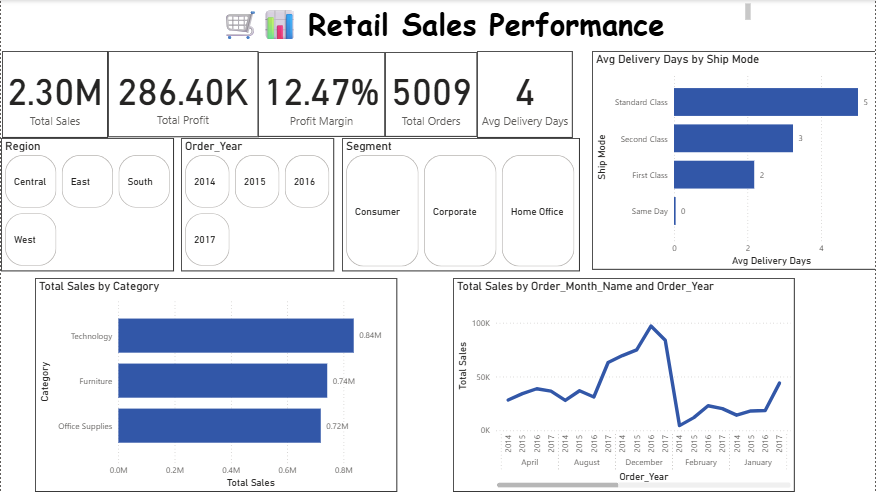

Layout of this report page (visuals, bound fields, positions):
{"tool":"powerbi","page":{"name":"Retail Sales Performance Report","canvas":[1280,720],"ordinal":0},"visuals":[{"type":"card","fields":{"Values":["Measure_Table.Total Sales"]},"box":[1.5,74.6,155.1,127.3],"z":0},{"type":"card","fields":{"Values":["Measure_Table.Total Profit"]},"box":[156.6,74.6,219.5,125.9],"z":1000},{"type":"card","fields":{"Values":["Measure_Table.Profit Margin"]},"box":[376.1,76.1,185.9,124.4],"z":2000},{"type":"card","fields":{"Values":["Measure_Table.Total Orders"]},"box":[562,76.1,134.6,124.4],"z":3000},{"type":"lineChart","fields":{"Y":["Measure_Table.Total Sales"],"Category":["Orders.Order_Month_Name","Orders.Order_Year"]},"box":[661.5,406.8,500.5,313.2],"z":4000},{"type":"clusteredBarChart","fields":{"Category":["Orders.Category"],"Y":["Measure_Table.Total Sales"]},"box":[49.8,406.8,529.8,313.2],"z":5000},{"type":"advancedSlicerVisual","fields":{"Values":["Location.Region"]},"box":[0,202,253.2,194.6],"z":6000},{"type":"advancedSlicerVisual","fields":{"Values":["Customers.Segment"]},"box":[499,202,348.3,194.6],"z":7000},{"type":"advancedSlicerVisual","fields":{"Values":["Orders.Order_Year"]},"box":[263.4,202,223.9,194.6],"z":8000},{"type":"card","fields":{"Values":["Measure_Table.Avg Delivery Days"]},"box":[696.6,74.6,140.5,127.3],"z":9000},{"type":"clusteredBarChart","fields":{"Category":["Orders.Ship Mode"],"Y":["Measure_Table.Avg Delivery Days"]},"box":[864.9,74.6,415.6,320.5],"z":10000},{"type":"textbox","box":[315.4,0,786.2,63.1],"z":11000}]}

Visuals, with their boxes in screenshot pixels (x1, y1, x2, y2), scaled from the page's 1280x720 canvas onto the 876x492 screenshot:
card - Measure_Table.Total Sales: (1, 51, 107, 138)
card - Measure_Table.Total Profit: (107, 51, 257, 137)
card - Measure_Table.Profit Margin: (257, 52, 385, 137)
card - Measure_Table.Total Orders: (385, 52, 477, 137)
lineChart - Measure_Table.Total Sales x Orders.Order_Month_Name: (453, 278, 795, 491)
clusteredBarChart - Orders.Category x Measure_Table.Total Sales: (34, 278, 397, 491)
advancedSlicerVisual - Location.Region: (0, 138, 173, 271)
advancedSlicerVisual - Customers.Segment: (342, 138, 580, 271)
advancedSlicerVisual - Orders.Order_Year: (180, 138, 333, 271)
card - Measure_Table.Avg Delivery Days: (477, 51, 573, 138)
clusteredBarChart - Orders.Ship Mode x Measure_Table.Avg Delivery Days: (592, 51, 875, 270)
textbox: (216, 0, 754, 43)
